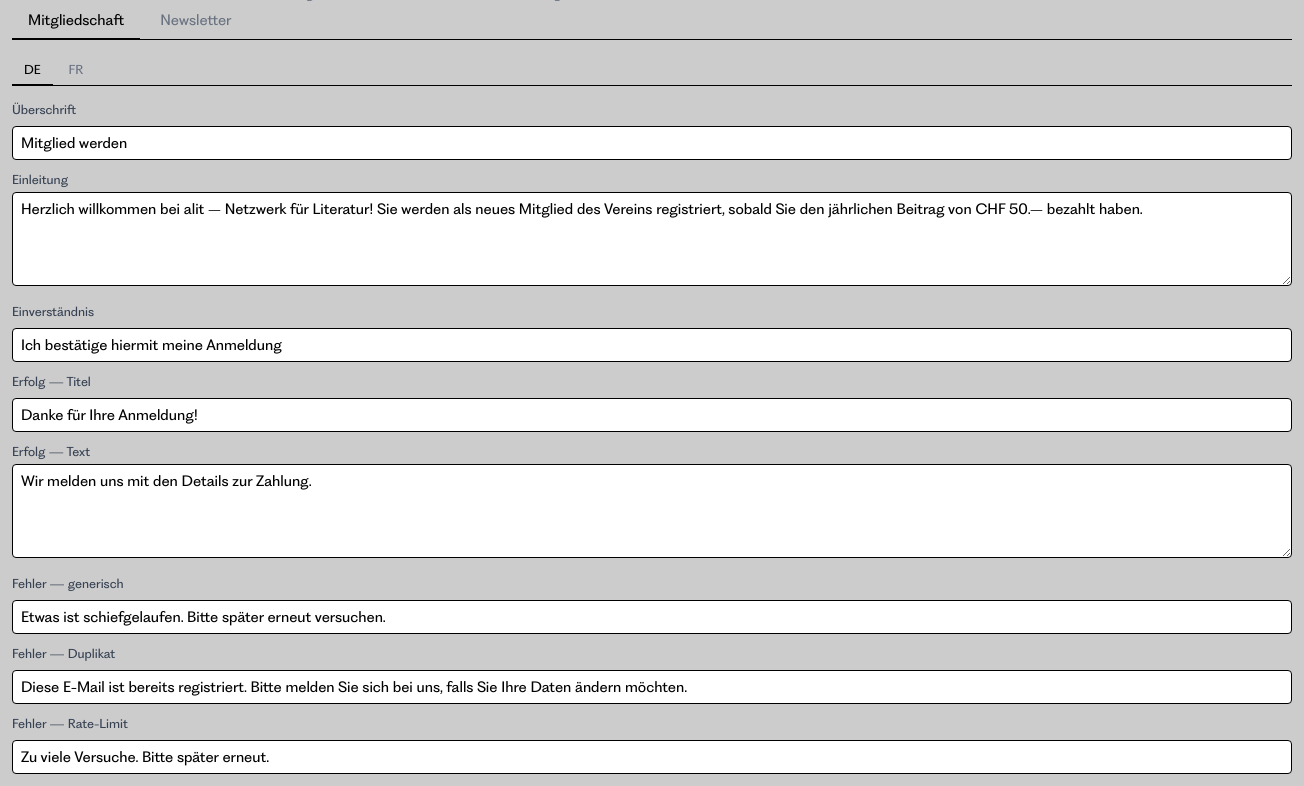
SubmissionTextsEditor › Reset button reverts active form×locale to dictionary defaults
Replace the text in the field with id "submission-text-mitgliedschaft-de-heading" with "Diverged" at (652, 143), box top-left (12, 126), bottom-right (1292, 160)
(page scrolled)
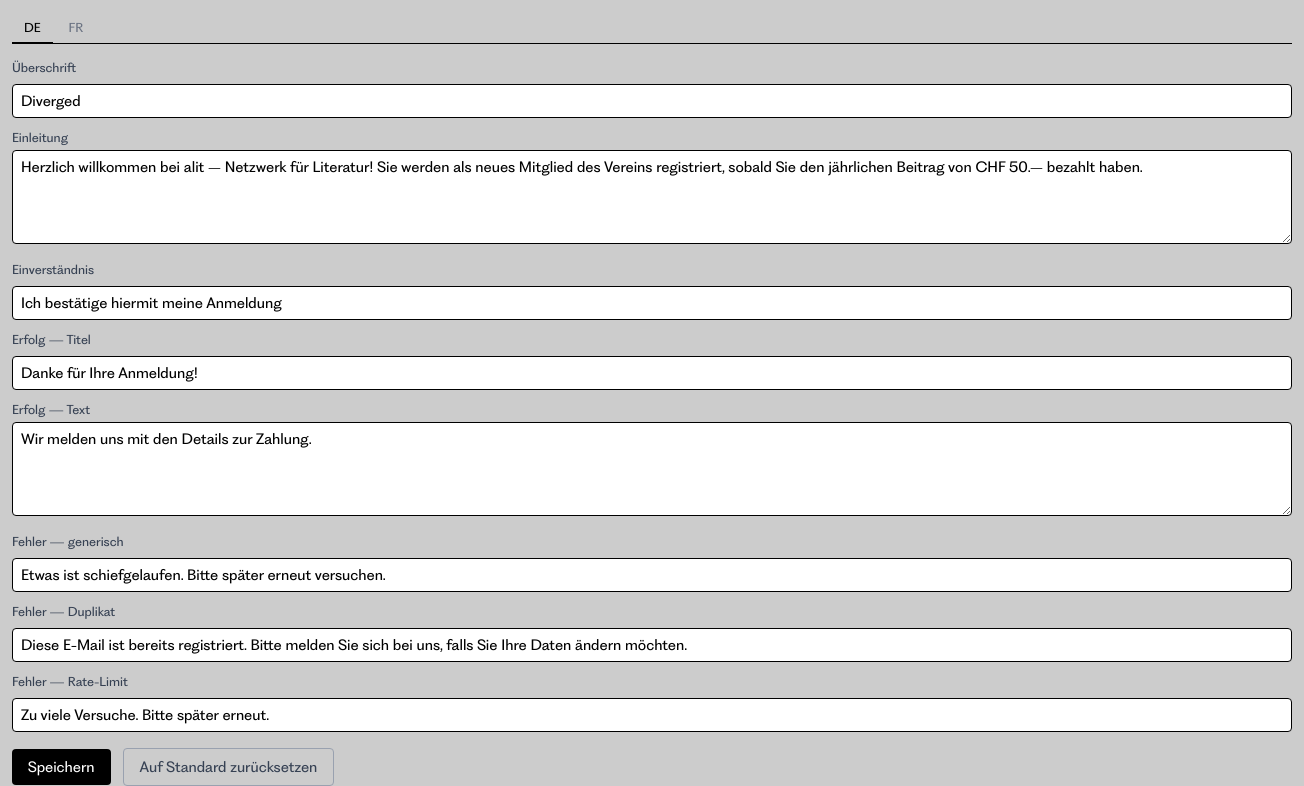
Click the button "Auf Standard zurücksetzen" at (228, 767), box top-left (122, 748), bottom-right (334, 785)
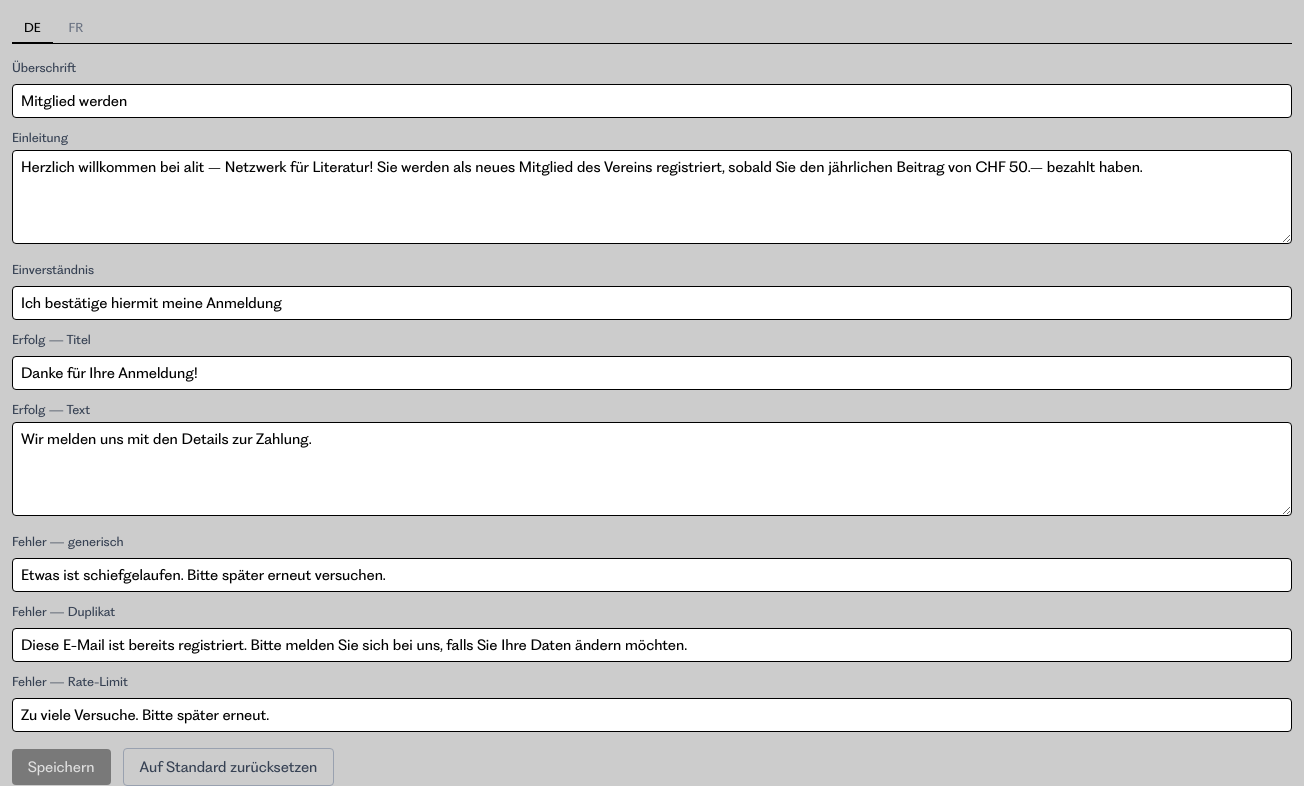
Now the field with id "submission-text-mitgliedschaft-de-heading" holds "Mitglied werden", box top-left (12, 84), bottom-right (1292, 118)
